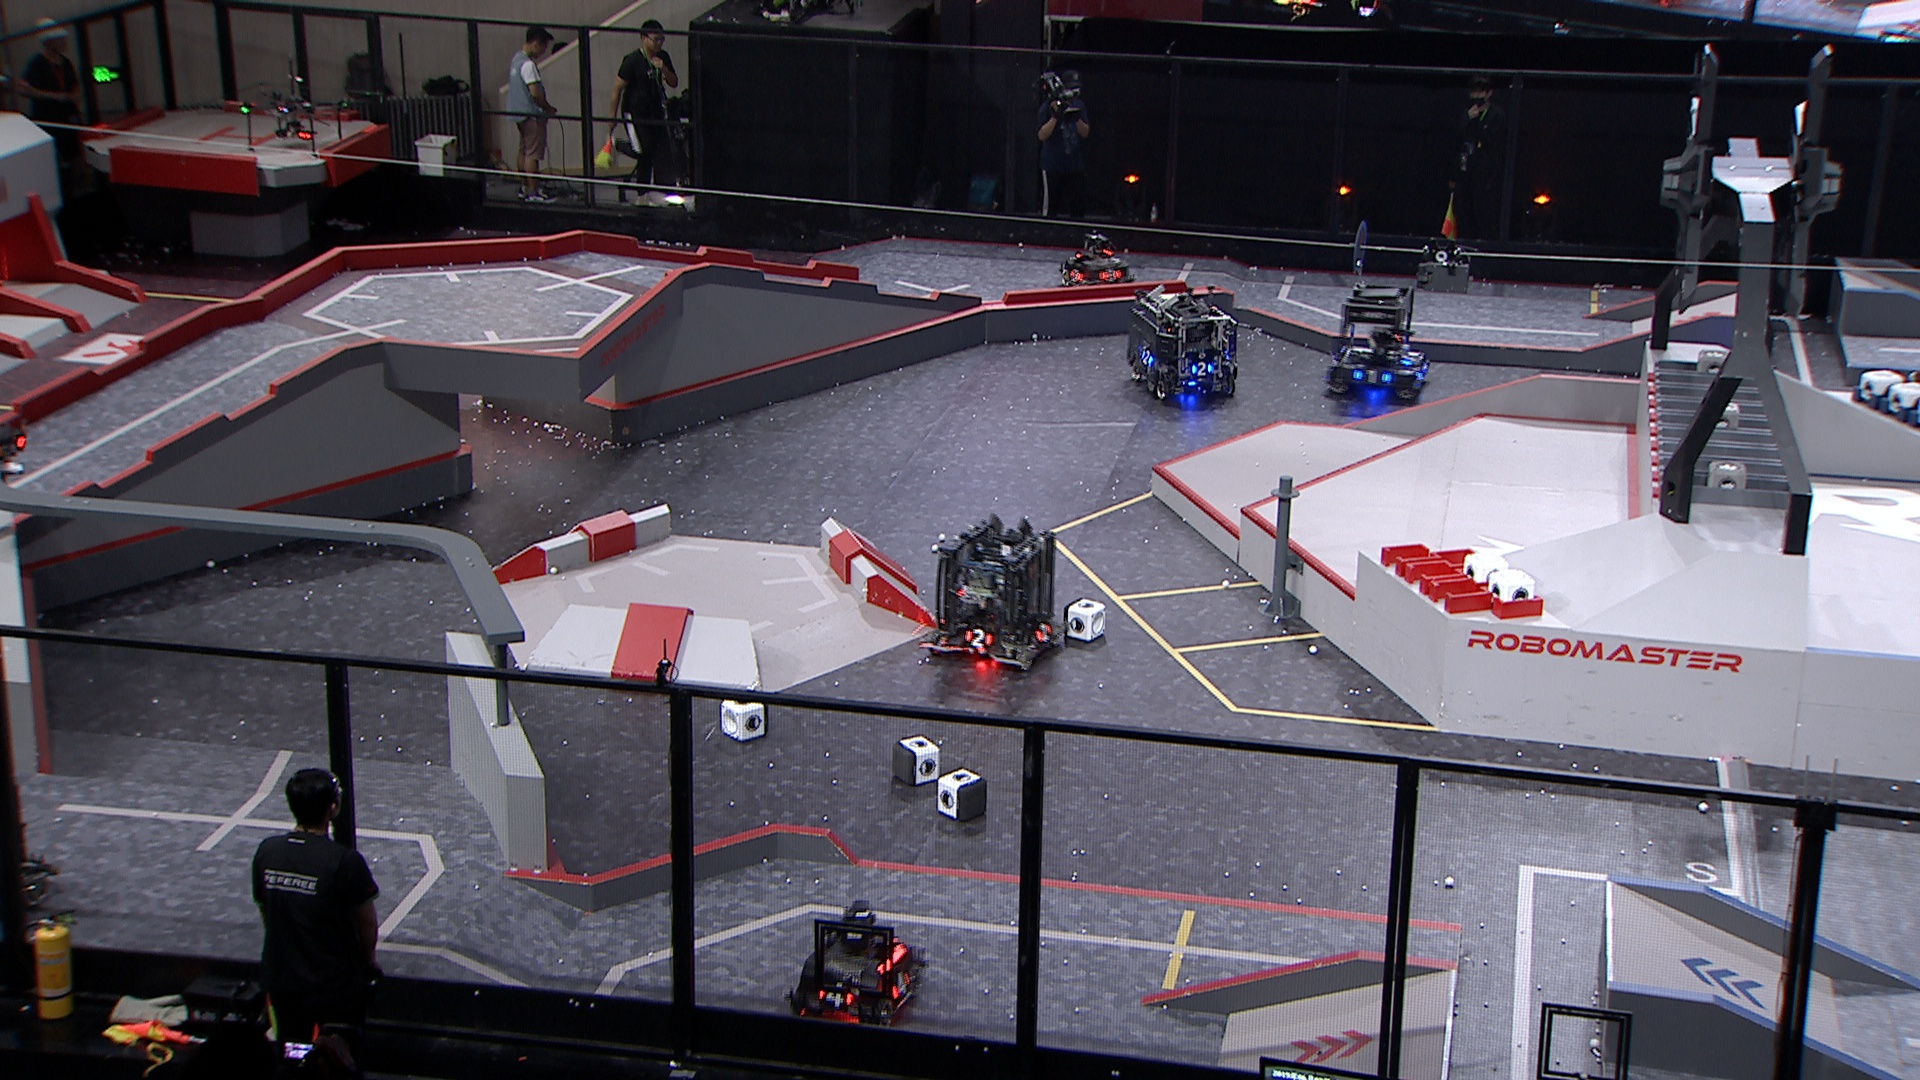armor: (818, 989, 855, 1010), (1353, 367, 1391, 386), (964, 626, 994, 650), (891, 968, 913, 1001), (1035, 621, 1055, 646), (1188, 361, 1216, 378), (1098, 268, 1124, 286), (1396, 349, 1418, 371), (1069, 266, 1087, 284), (1139, 349, 1155, 367)
car: (920, 516, 1067, 674), (783, 897, 928, 1030), (1324, 282, 1432, 404), (1129, 290, 1240, 405), (1060, 229, 1135, 291)
